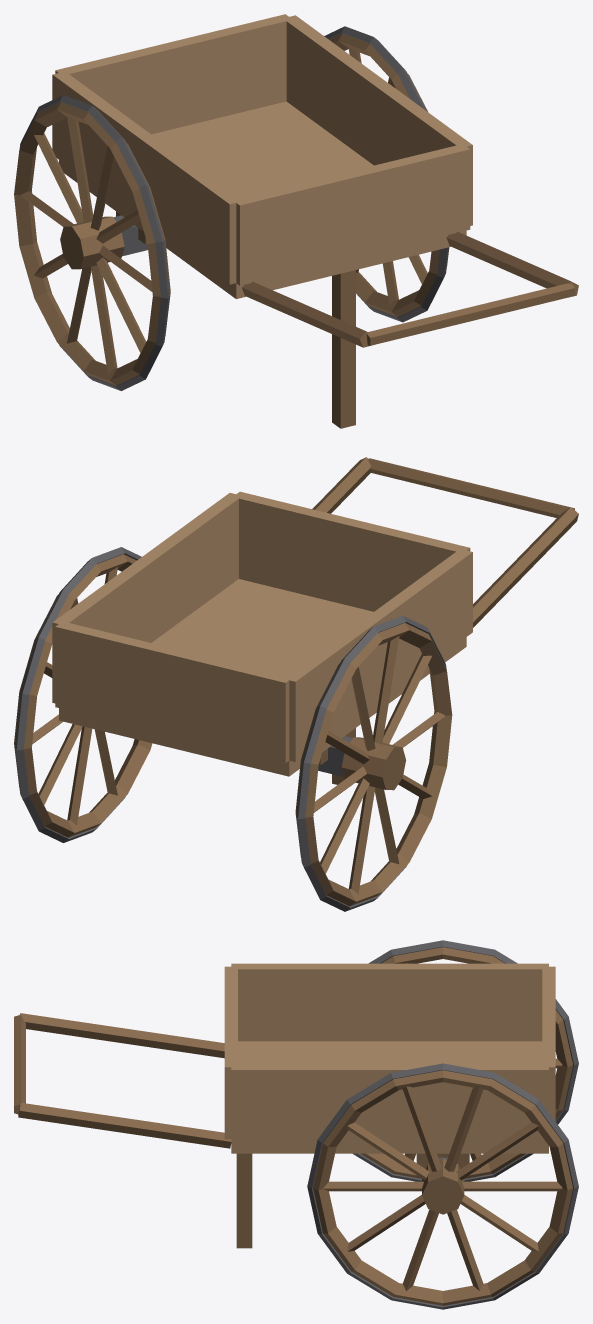
File: SM_Hand_Cart.glb
The picture shows the model from 3 angles, top to bottom: view 1: azimuth 30°, elevation 25°; view 2: azimuth 150°, elevation 25°; view 3: azimuth 270°, elevation 25°; orthographic projection. The views are drawn at different scales.
Visible parts, largest first — view 1: SM_Hand_Cart; view 2: SM_Hand_Cart; view 3: SM_Hand_Cart.
Boxes of the visible parts, x1,y1,x2,y2 form: SM_Hand_Cart: (14,14,578,428); SM_Hand_Cart: (14,457,578,911); SM_Hand_Cart: (14,940,578,1309).
Size of the model in its own units: 1.26 by 1.03 by 2.13.
